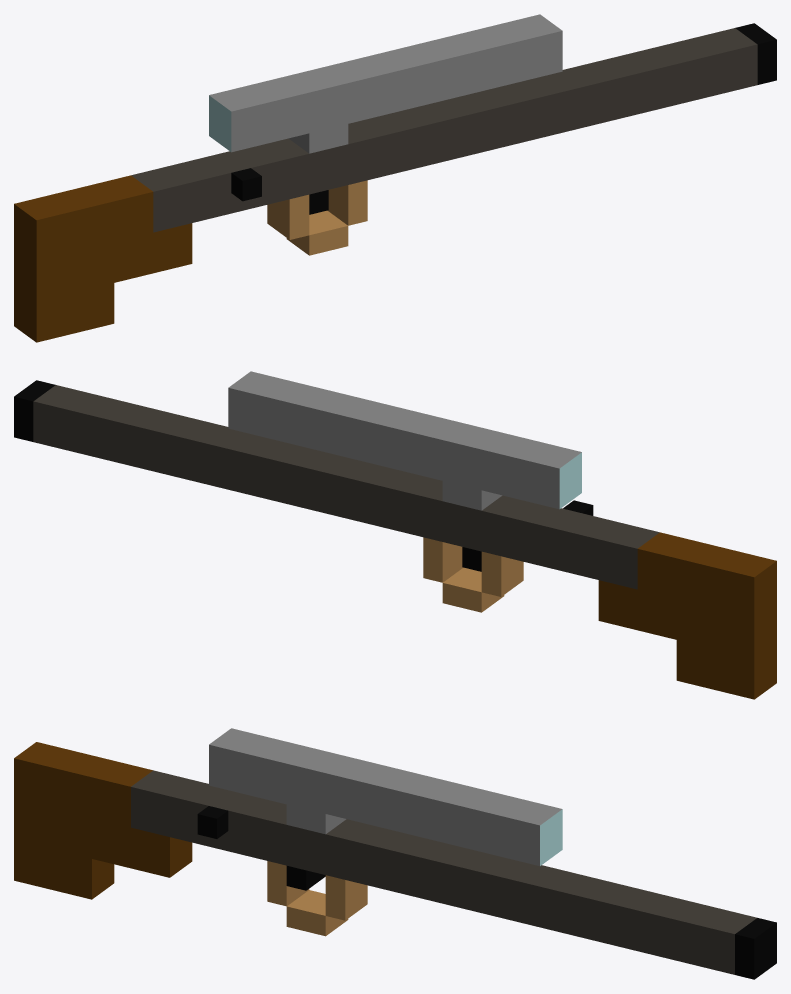
The model's file is test item.fbx.
The picture shows the model from 3 angles, top to bottom: view 1: azimuth 30°, elevation 25°; view 2: azimuth 150°, elevation 25°; view 3: azimuth 330°, elevation 25°; orthographic projection.
Visible parts, largest first — view 1: cube, cube_7, cube_2, cube_1, cube_3, cube_6, cube_5, cube_4, cube_10, cube_8, cube_9; view 2: cube, cube_7, cube_2, cube_1, cube_3, cube_6, cube_5, cube_4, cube_10, cube_8; view 3: cube, cube_7, cube_2, cube_1, cube_3, cube_10, cube_6, cube_4, cube_8, cube_5, cube_9, cube_11.
Part boxes in pixels (x1=…): cube: x1=131, y1=28, x2=757, y2=232; cube_7: x1=209, y1=14, x2=562, y2=152; cube_2: x1=14, y1=175, x2=153, y2=260; cube_1: x1=14, y1=223, x2=192, y2=301; cube_3: x1=14, y1=283, x2=114, y2=342; cube_6: x1=286, y1=210, x2=348, y2=255; cube_5: x1=267, y1=194, x2=309, y2=239; cube_4: x1=327, y1=180, x2=367, y2=225; cube_10: x1=735, y1=23, x2=776, y2=84; cube_8: x1=288, y1=124, x2=348, y2=153; cube_9: x1=231, y1=168, x2=261, y2=201; cube: x1=33, y1=385, x2=659, y2=589; cube_7: x1=228, y1=371, x2=581, y2=509; cube_2: x1=637, y1=532, x2=776, y2=617; cube_1: x1=598, y1=580, x2=776, y2=658; cube_3: x1=676, y1=640, x2=776, y2=699; cube_6: x1=442, y1=567, x2=504, y2=612; cube_5: x1=481, y1=551, x2=523, y2=596; cube_4: x1=423, y1=537, x2=463, y2=582; cube_10: x1=14, y1=380, x2=55, y2=441; cube_8: x1=442, y1=481, x2=502, y2=510; cube: x1=131, y1=770, x2=756, y2=974; cube_7: x1=209, y1=728, x2=562, y2=865; cube_2: x1=14, y1=742, x2=152, y2=827; cube_1: x1=14, y1=799, x2=192, y2=877; cube_3: x1=14, y1=840, x2=114, y2=899; cube_10: x1=735, y1=918, x2=776, y2=979; cube_6: x1=286, y1=890, x2=348, y2=936; cube_4: x1=325, y1=875, x2=367, y2=920; cube_8: x1=286, y1=804, x2=346, y2=834; cube_5: x1=267, y1=861, x2=309, y2=906; cube_9: x1=197, y1=806, x2=228, y2=838; cube_11: x1=286, y1=866, x2=325, y2=890.
Bounding box in the file's own units: 238 × 56.25 × 18.75.
1 material, 1 textured.
